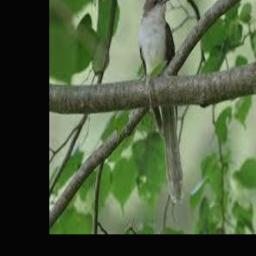Cuckoo: (138, 0, 182, 204)
